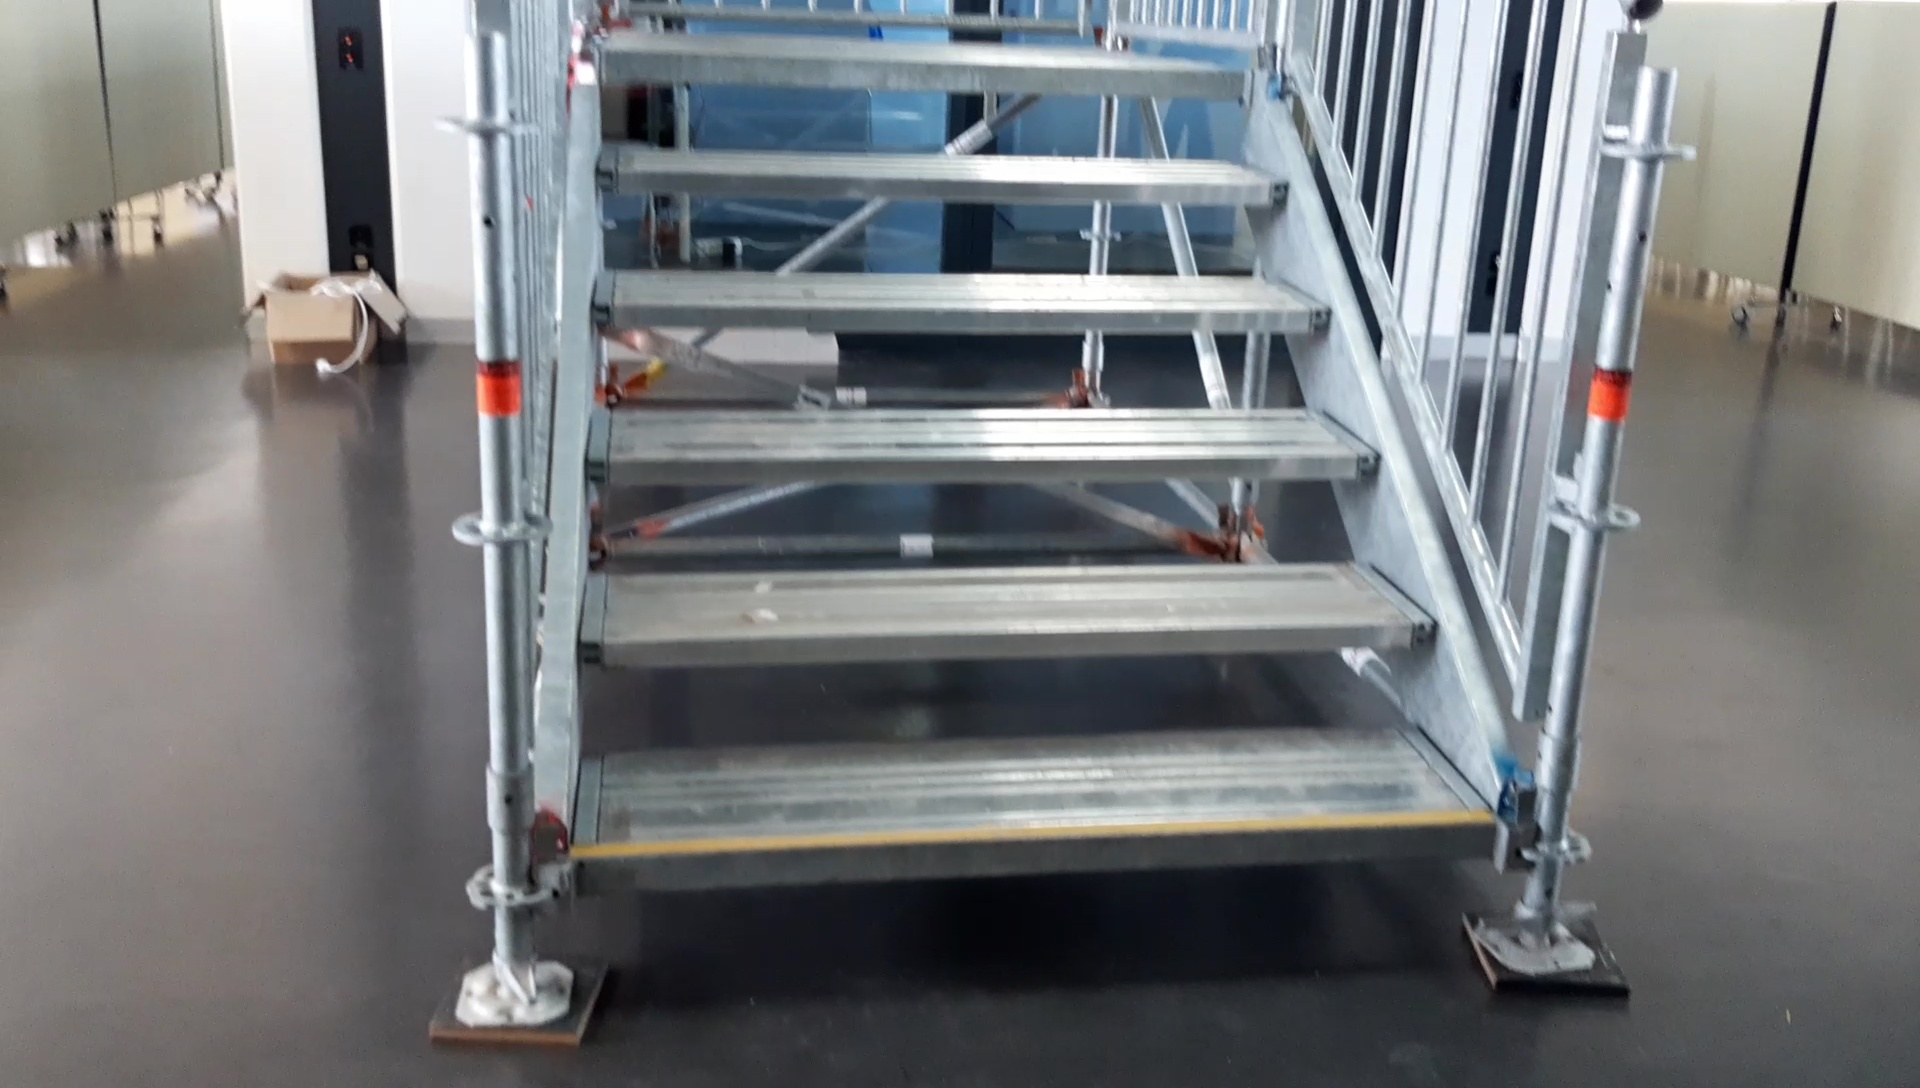edge: (572, 818, 1499, 890), (578, 619, 1435, 666), (597, 50, 1251, 102), (589, 450, 1379, 483), (588, 302, 1329, 334), (593, 170, 1288, 200)
stairs: (433, 5, 1633, 1043)
steps: (563, 42, 1499, 899)
